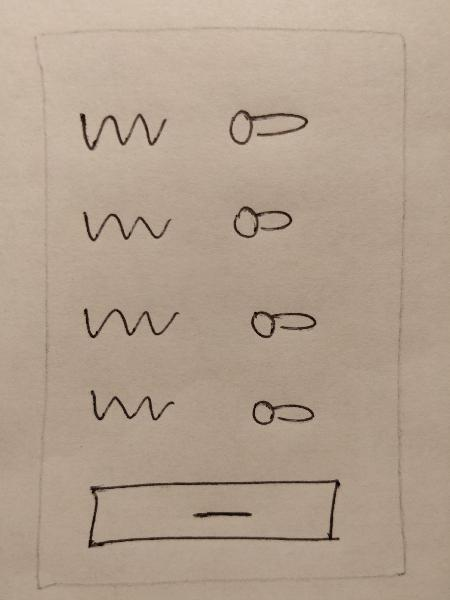button: (77, 474, 363, 552)
switch: (220, 98, 316, 152), (217, 199, 311, 249), (238, 300, 329, 348), (241, 389, 330, 437)
text: (72, 296, 188, 349), (72, 380, 183, 434), (72, 105, 178, 155), (74, 203, 180, 253)
